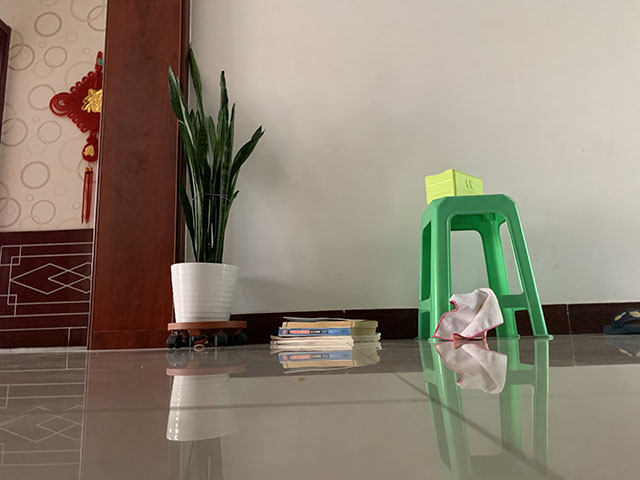book: (267, 314, 383, 345)
slippers: (602, 308, 640, 336)
stool: (417, 193, 552, 341)
